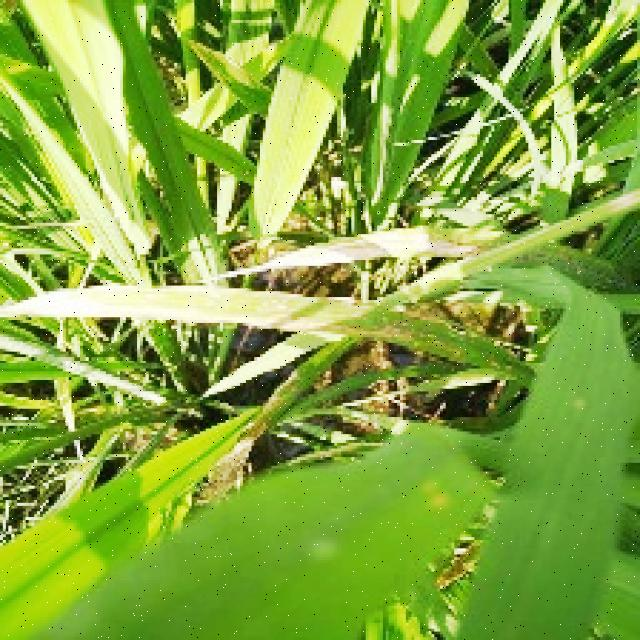-: (0, 0, 637, 191)
